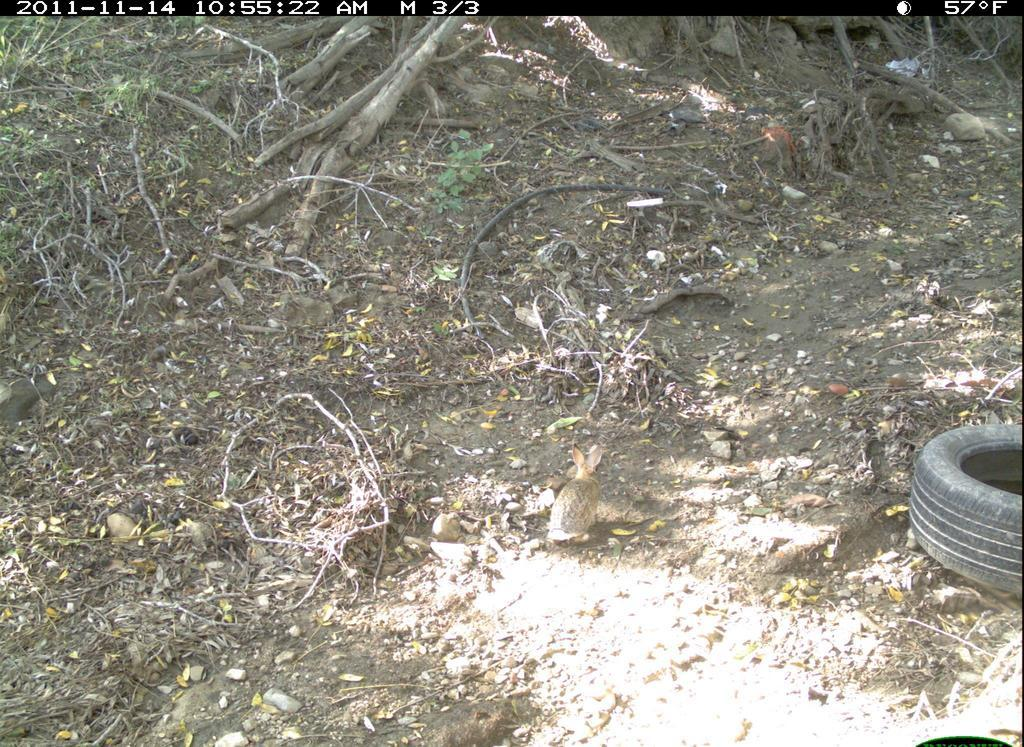rabbit: (544, 436, 614, 559)
